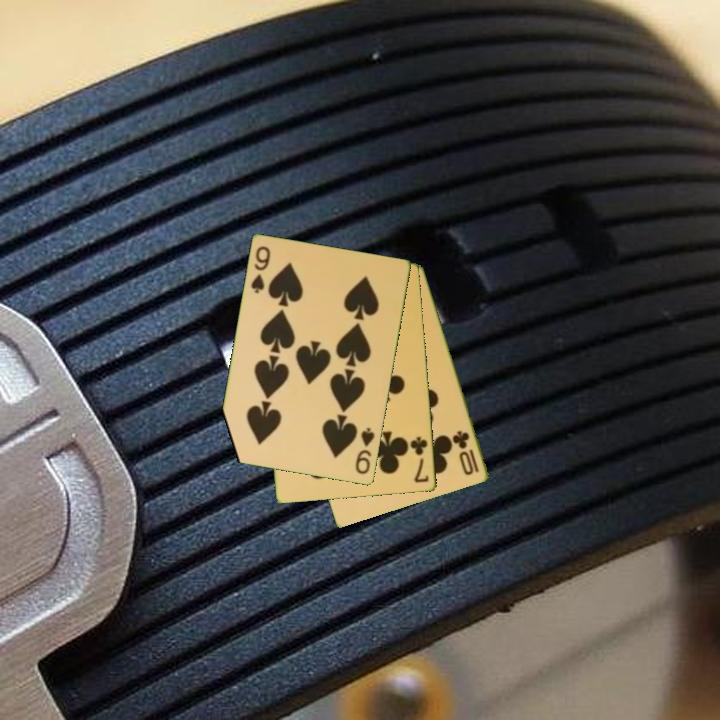10c: (450, 427, 482, 478)
7c: (407, 433, 432, 486)
9s: (352, 424, 378, 477), (248, 243, 273, 297)
